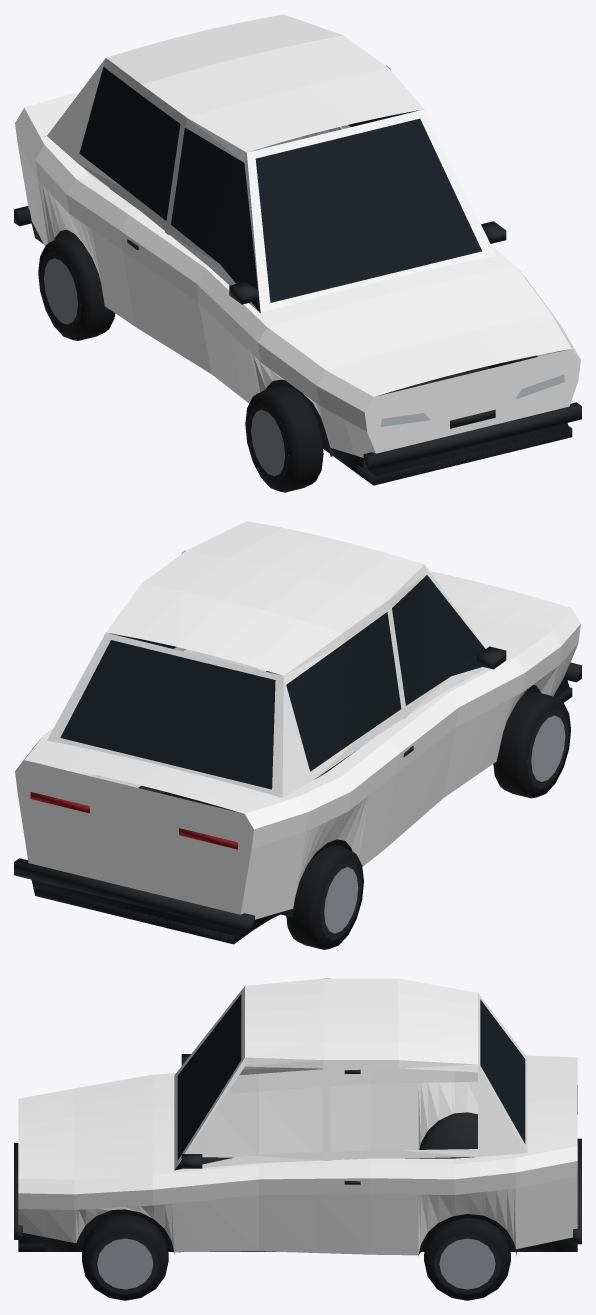
The model's file is kosame_musgo.glb.
The picture shows the model from 3 angles, top to bottom: view 1: azimuth 30°, elevation 25°; view 2: azimuth 150°, elevation 25°; view 3: azimuth 270°, elevation 25°; orthographic projection. The views are drawn at different scales.
Parts seen in each view (by area): view 1: Body_Paint, Body_Details, Mount_FrontLeft_Wheel_Details, Mount_RearLeft_Wheel_Details; view 2: Body_Paint, Body_Details, Mount_FrontLeft_Wheel_Details, Mount_RearLeft_Wheel_Details; view 3: Body_Paint, Body_Details, Mount_FrontRight_Wheel_Details, Mount_RearRight_Wheel_Details.
Boxes of the visible parts, x1,y1,x2,y2 form: Body_Paint: (15,14,580,457); Body_Details: (14,67,581,485); Mount_FrontLeft_Wheel_Details: (245,385,323,492); Mount_RearLeft_Wheel_Details: (38,235,115,340); Body_Paint: (15,521,580,919); Body_Details: (14,575,581,944); Mount_FrontLeft_Wheel_Details: (493,691,570,798); Mount_RearLeft_Wheel_Details: (286,845,363,949); Body_Paint: (18,978,577,1255); Body_Details: (14,994,581,1255); Mount_FrontRight_Wheel_Details: (82,1214,168,1300); Mount_RearRight_Wheel_Details: (424,1218,510,1300).
Bounding box in the file's own units: 1.69 × 1.58 × 3.54.
2 materials, 1 textured.
